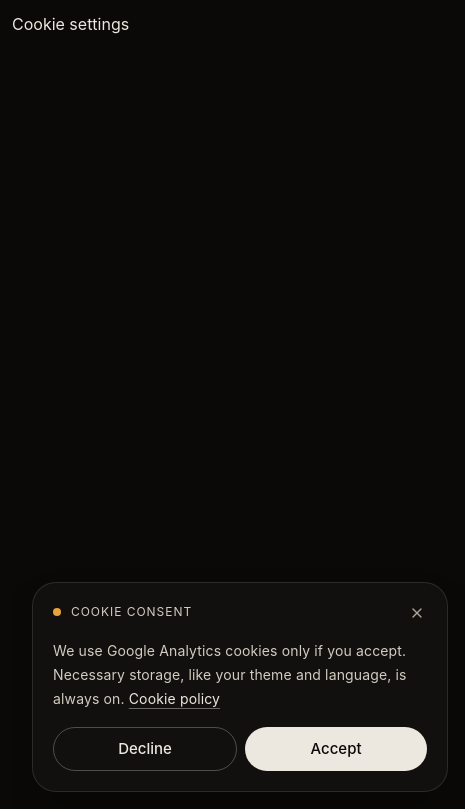
Test: cookie consent UI › closing the banner › the close button hides it without recording a choice
Click the button named "Close".
click(417, 613)  # box 395,591 -> 439,635
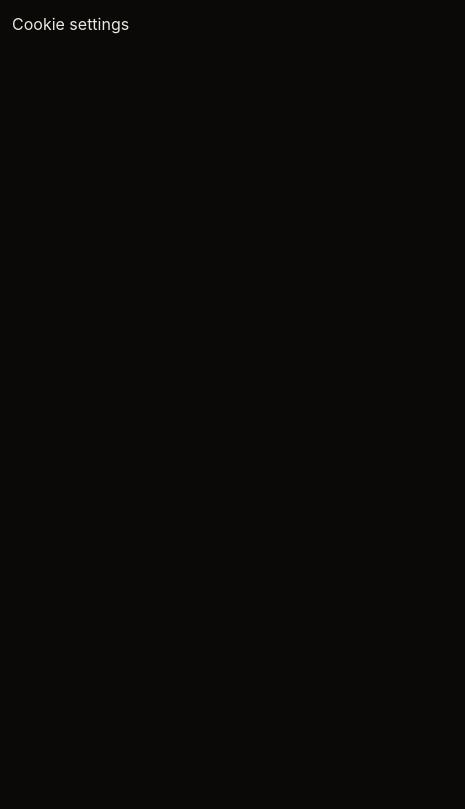
Check: the element "Cookie consent" is gone
